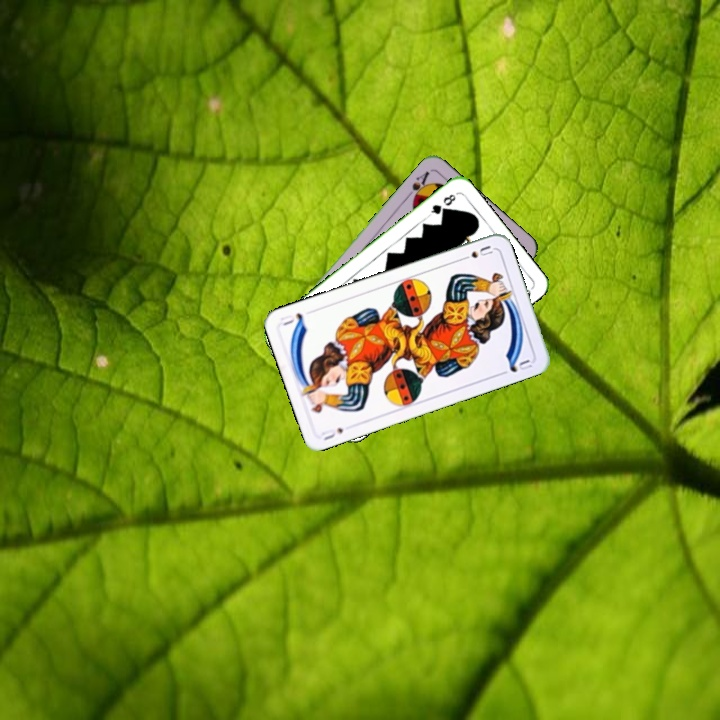G8: (425, 190, 459, 219)
SA: (402, 167, 432, 205)
SU: (456, 241, 495, 264), (317, 423, 346, 443)
